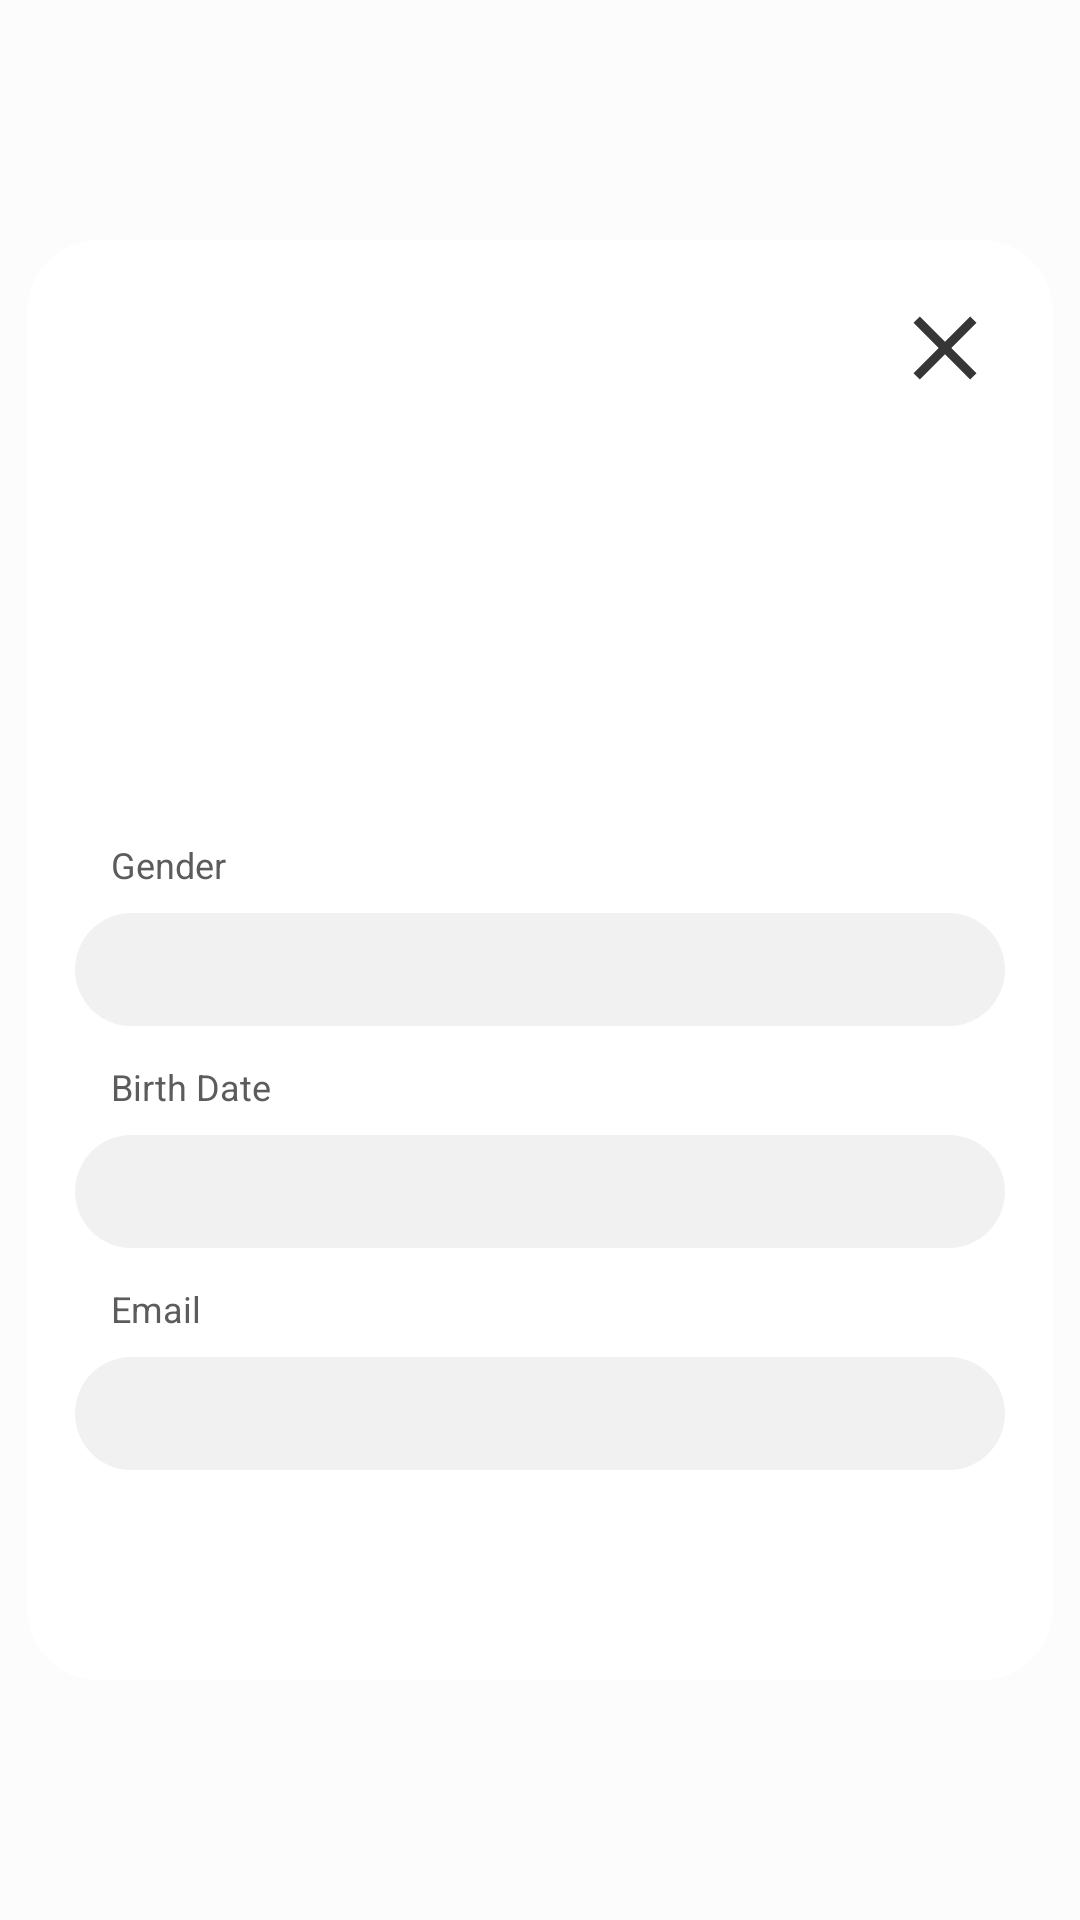

Point at icon controls on the screen. Image size 1080 × 1920, points as point (x, y).
close: point (945, 348)
